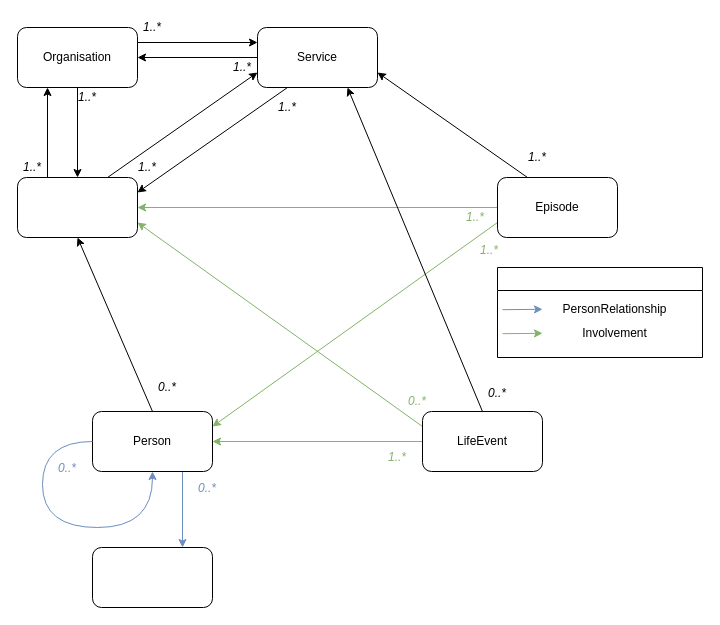
The diagram is 720 pixels wide and 625 high, and some of its shapes have lost their labels. The shapes that lost their labels are listed below. From the top down, each one's box as (x1, y1, x2, y2) in pixels, then its label:
(16, 176, 138, 238): Professional
(496, 266, 702, 358): Predicates
(92, 546, 212, 608): ConnectedPerson
